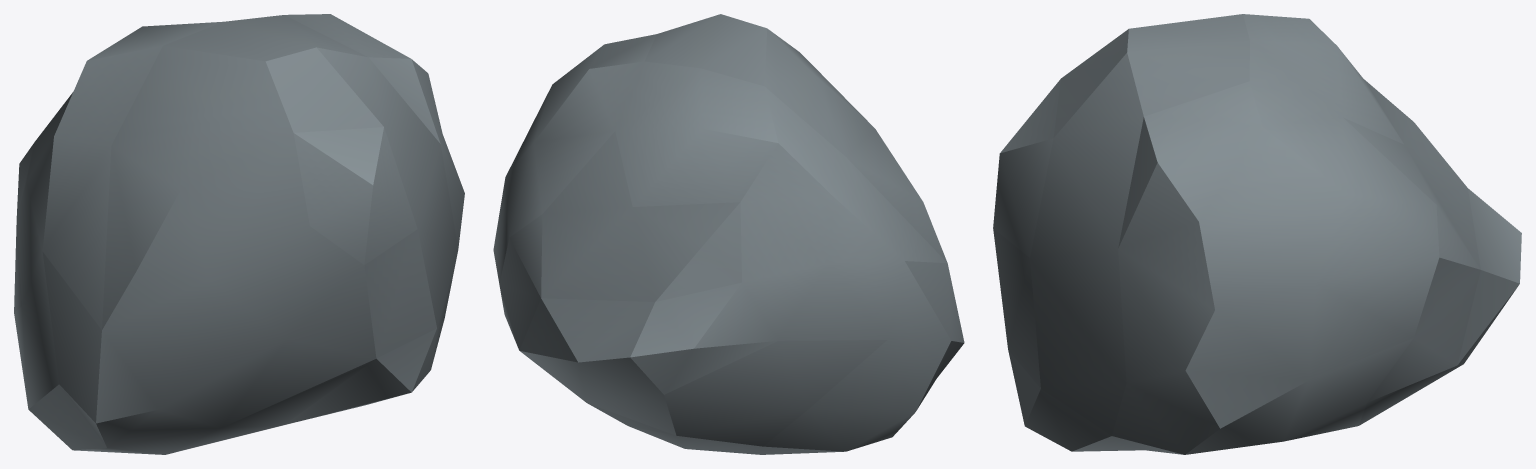
The model's file is Rock_3_K_Color1.glb.
3 views of the same model, side by side, from view 1: azimuth 30°, elevation 25°; view 2: azimuth 150°, elevation 25°; view 3: azimuth 270°, elevation 25° (orthographic). The views are drawn at different scales.
Visible parts, largest first — view 1: Rock_3_K_Color1; view 2: Rock_3_K_Color1; view 3: Rock_3_K_Color1.
Boxes of the visible parts, box(x1,y1,x2,y2) form: Rock_3_K_Color1: box(14, 14, 464, 454); Rock_3_K_Color1: box(493, 14, 964, 454); Rock_3_K_Color1: box(993, 14, 1521, 454).
Bounding box in the file's own units: 2.61 × 2.22 × 2.59.
1 material, 1 textured.
